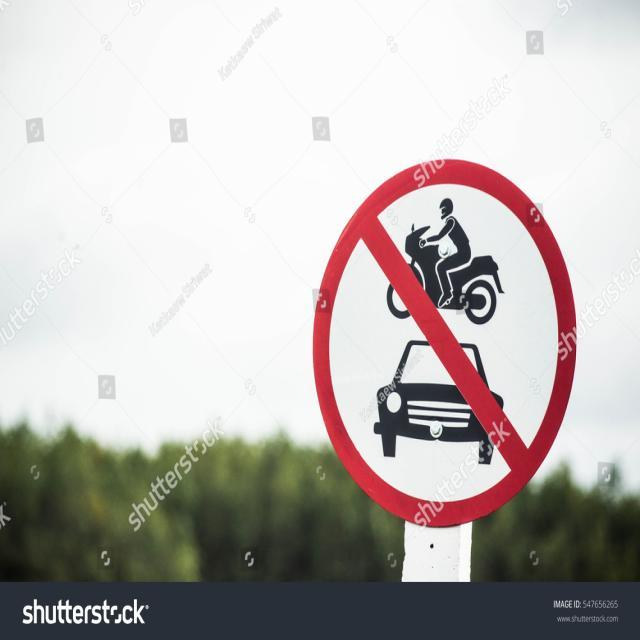all motor vehicle prohibited: (313, 158, 579, 528)
